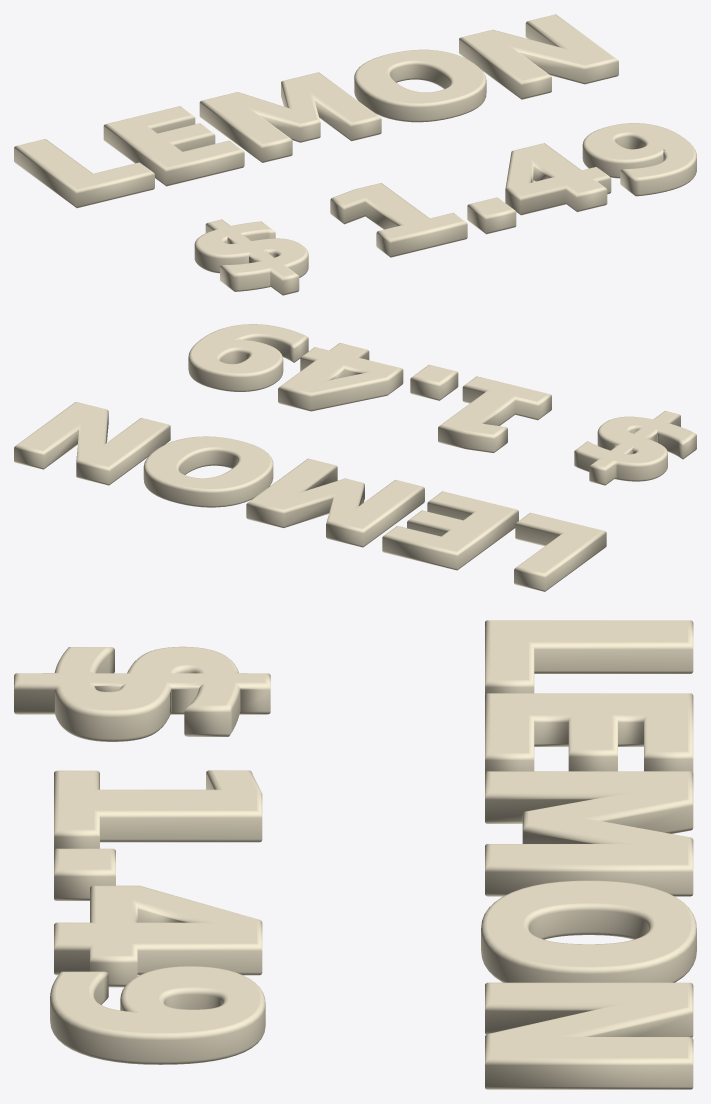
File: SM_EG_Produce_price_3866662326.fbx
The picture shows the model from 3 angles, top to bottom: view 1: azimuth 30°, elevation 25°; view 2: azimuth 150°, elevation 25°; view 3: azimuth 270°, elevation 25°; orthographic projection. The views are drawn at different scales.
Parts seen in each view (by area): view 1: SM_EG_Produce_price_3866662326; view 2: SM_EG_Produce_price_3866662326; view 3: SM_EG_Produce_price_3866662326.
Part boxes in pixels (x1,y1,x2,y2): SM_EG_Produce_price_3866662326: [14, 14, 696, 295]; SM_EG_Produce_price_3866662326: [14, 324, 696, 591]; SM_EG_Produce_price_3866662326: [14, 620, 696, 1089].
Bounding box in the file's own units: 13.35 × 8.72 × 0.44.
